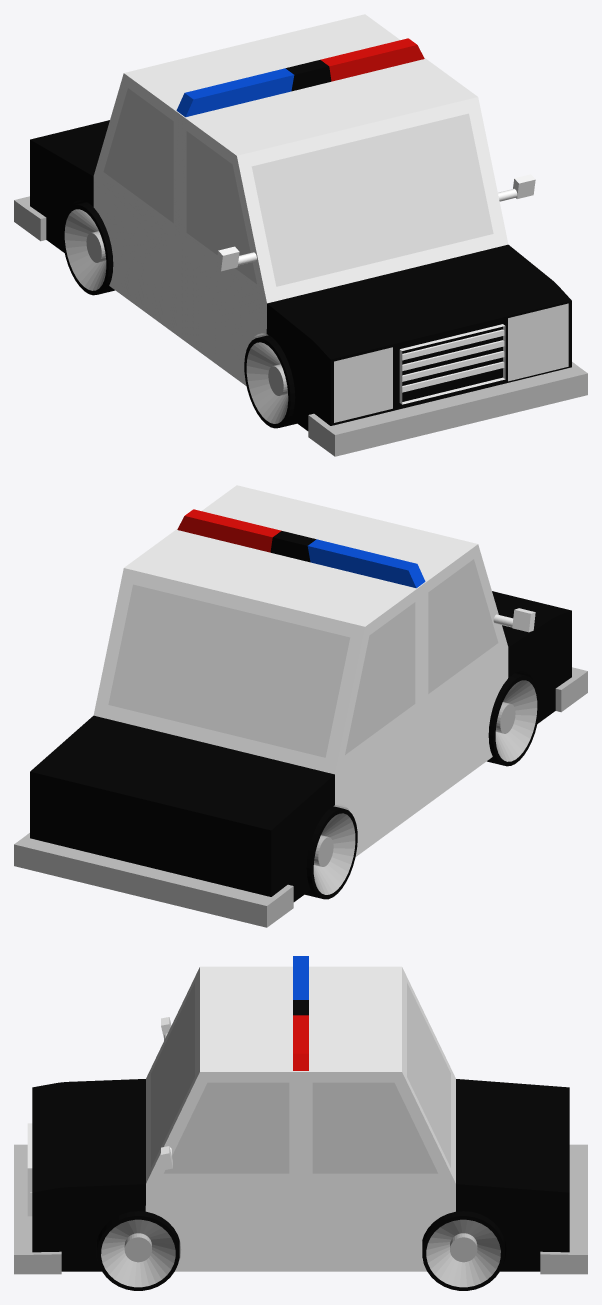
File: policeCar.fbx
3 views of the same model, one above another, from view 1: azimuth 30°, elevation 25°; view 2: azimuth 150°, elevation 25°; view 3: azimuth 270°, elevation 25° (orthographic). The views are drawn at different scales.
Visible parts, largest first — view 1: policeCar; view 2: policeCar; view 3: policeCar.
Part boxes in pixels (box(x1,y1,x2,y2)): policeCar: box(14, 14, 587, 456); policeCar: box(14, 485, 587, 927); policeCar: box(14, 956, 587, 1290).
Size of the model in its own units: 65.48 by 51.91 by 116.
